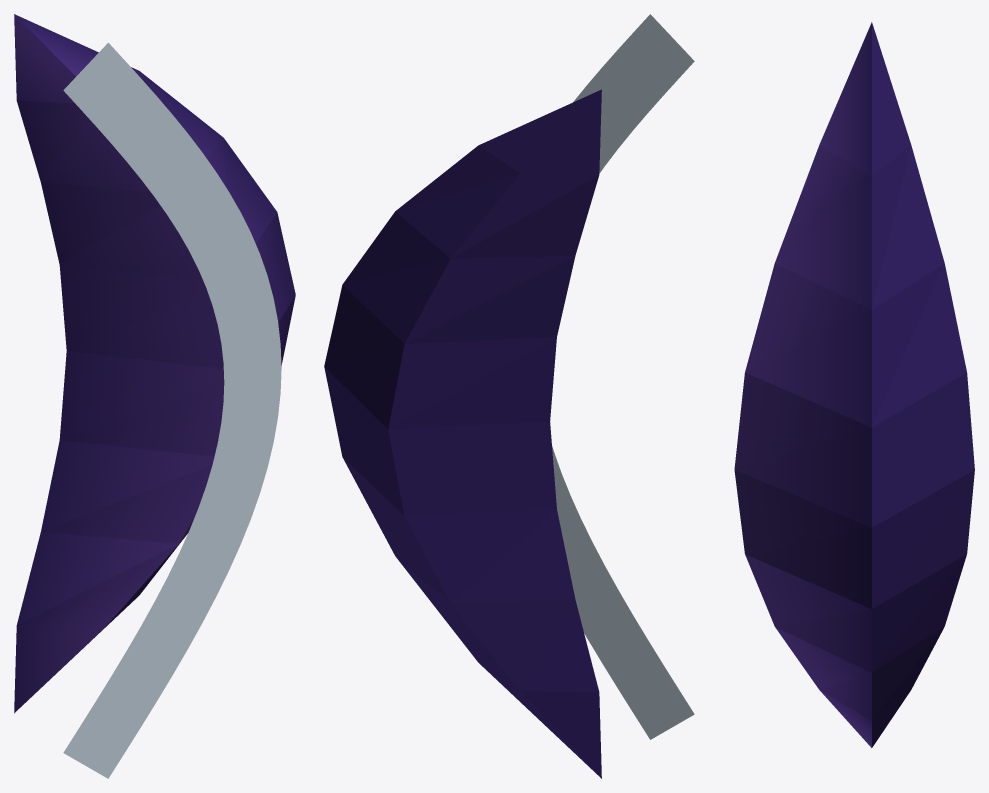
File: Fischl_OzState_EmptyAnchor_OzLooseFeather.fbx
The picture shows the model from 3 angles, left to right: view 1: azimuth 30°, elevation 25°; view 2: azimuth 150°, elevation 25°; view 3: azimuth 270°, elevation 25°; orthographic projection. The views are drawn at different scales.
Parts seen in each view (by area): view 1: PART_OzLoose_FacetedFeather, PART_OzLoose_VioletFeatherSpine; view 2: PART_OzLoose_FacetedFeather, PART_OzLoose_VioletFeatherSpine; view 3: PART_OzLoose_FacetedFeather.
Boxes of the visible parts, box(x1,y1,x2,y2) form: PART_OzLoose_FacetedFeather: box(14, 14, 295, 713); PART_OzLoose_VioletFeatherSpine: box(63, 42, 281, 778); PART_OzLoose_FacetedFeather: box(324, 89, 601, 778); PART_OzLoose_VioletFeatherSpine: box(552, 14, 694, 739); PART_OzLoose_FacetedFeather: box(734, 22, 974, 747).
Size of the model in its own units: 6.37 by 14.74 by 4.4.
